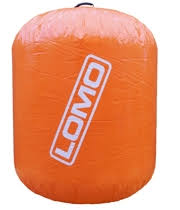buoy: (12, 9, 157, 204)
